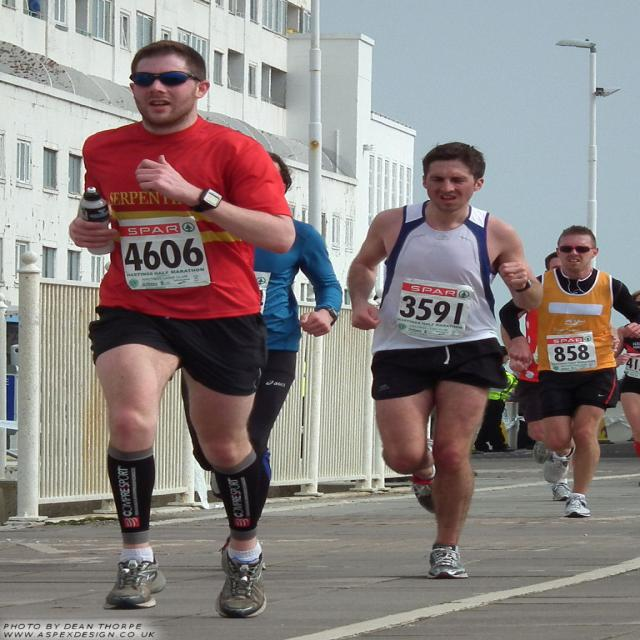Bib: (118, 238, 202, 274), (396, 294, 465, 324), (547, 345, 598, 365)
